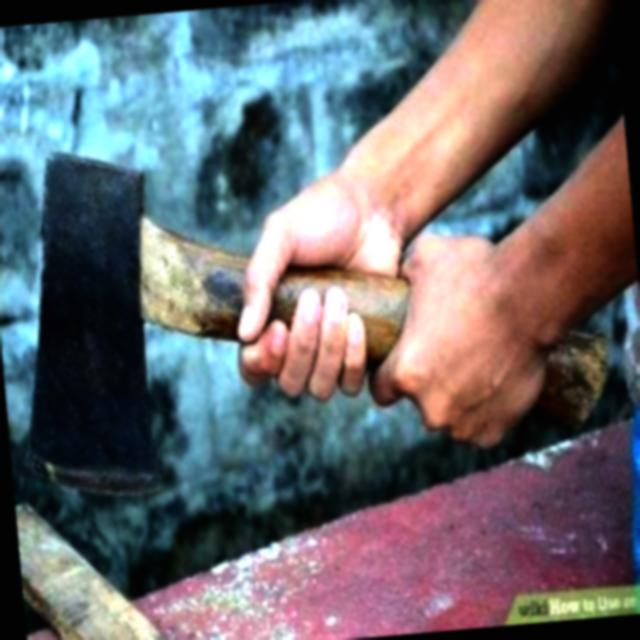ax: (0, 101, 624, 527)
